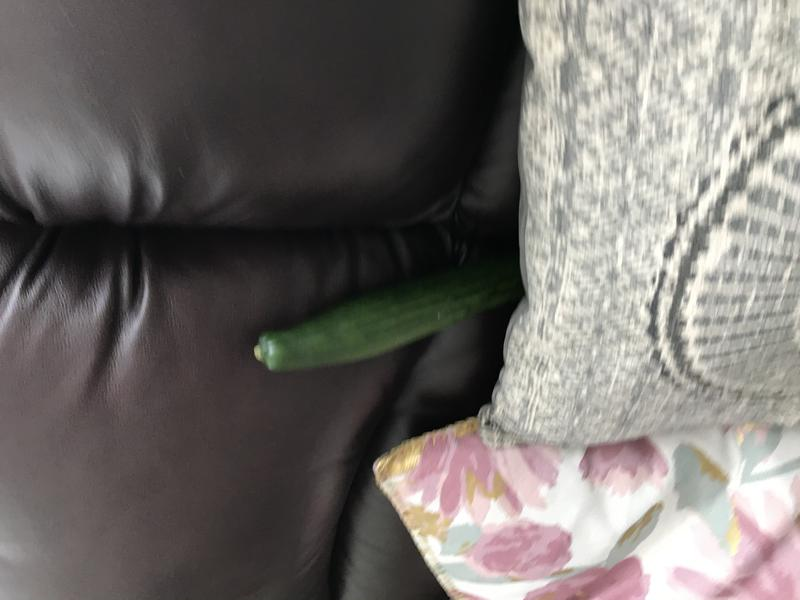cucumber: (243, 260, 547, 396)
